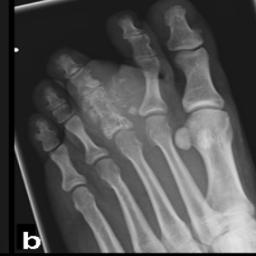cancer: (85, 70, 141, 138)
